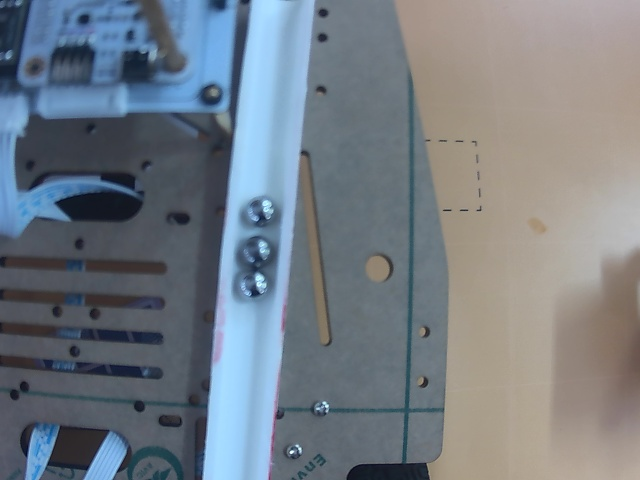steelball: (246, 195, 276, 227), (241, 237, 272, 266), (239, 272, 269, 298)
